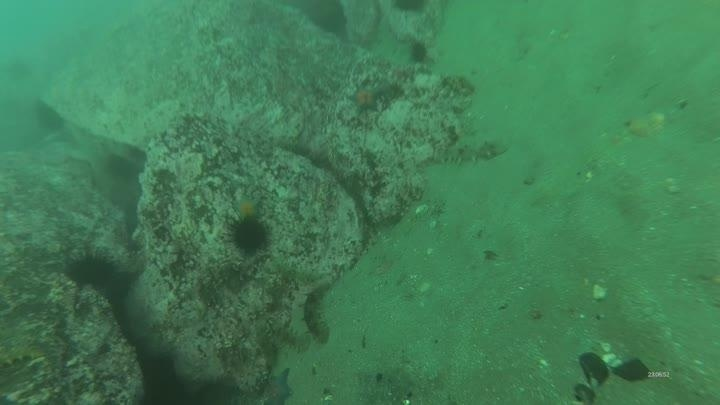echinus: (63, 249, 120, 292), (228, 216, 271, 256), (32, 100, 67, 135), (102, 152, 139, 183), (405, 38, 432, 66), (390, 0, 430, 17)
holothurian: (432, 133, 511, 168), (300, 283, 334, 346)
starfish: (259, 365, 296, 404), (346, 80, 386, 115), (232, 192, 263, 222)
